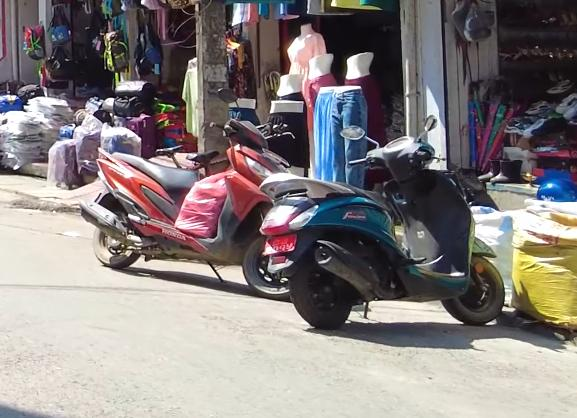scooter: (259, 112, 516, 342), (74, 109, 302, 304)
